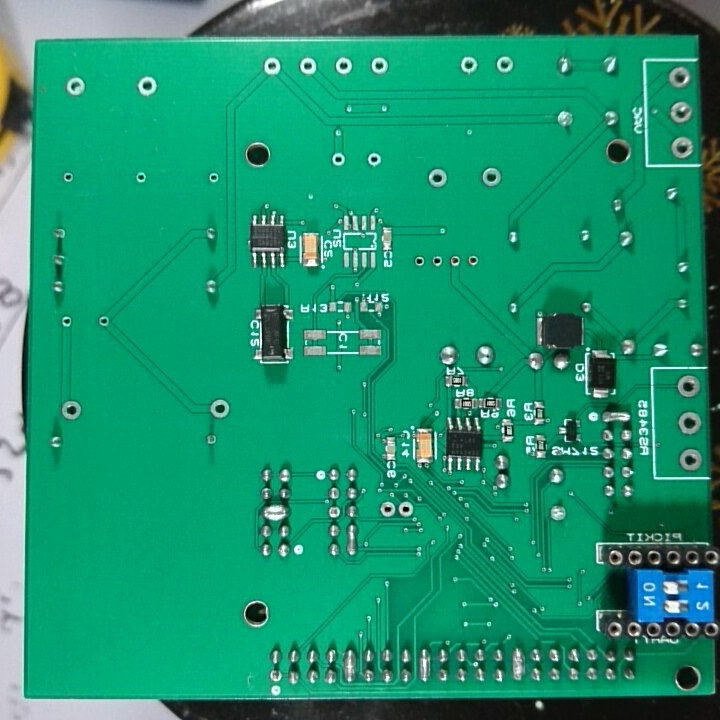F: (678, 444, 706, 477), (56, 395, 88, 423), (667, 131, 696, 161), (676, 408, 704, 439), (673, 372, 700, 403), (666, 98, 695, 126), (667, 63, 693, 92), (492, 51, 518, 78), (367, 53, 393, 79), (62, 74, 89, 99), (554, 103, 576, 133), (479, 164, 504, 190), (295, 52, 319, 79), (134, 75, 161, 99), (261, 54, 285, 80), (207, 395, 231, 421), (458, 52, 481, 79), (424, 166, 450, 189), (331, 55, 356, 77), (547, 503, 570, 524), (364, 149, 384, 173), (396, 498, 416, 520), (376, 500, 397, 520), (328, 149, 348, 169), (201, 429, 221, 449), (50, 224, 70, 241), (266, 667, 284, 685), (411, 252, 428, 270), (325, 504, 343, 520), (60, 169, 76, 186), (133, 169, 150, 185), (206, 169, 222, 186), (465, 251, 480, 269), (447, 251, 461, 270), (96, 313, 112, 329), (59, 314, 74, 329), (430, 251, 444, 267)
P: (508, 647, 527, 683), (260, 503, 293, 522), (341, 648, 357, 686), (416, 648, 433, 683), (599, 408, 633, 424), (346, 523, 359, 558)
